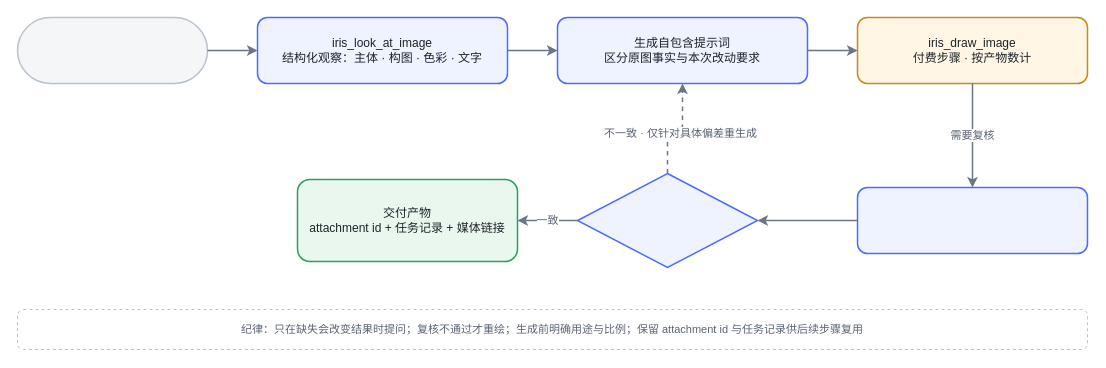
This 1106x368 diagram has some shape labels left out. Each missing label, with the box of its shape:
iris_relook_attachment 对照原始需求逐项复核: (856, 186, 1088, 254)
与需求一致？: (576, 172, 758, 268)
源图片 宿主路径 / 会话附件: (16, 16, 208, 84)
